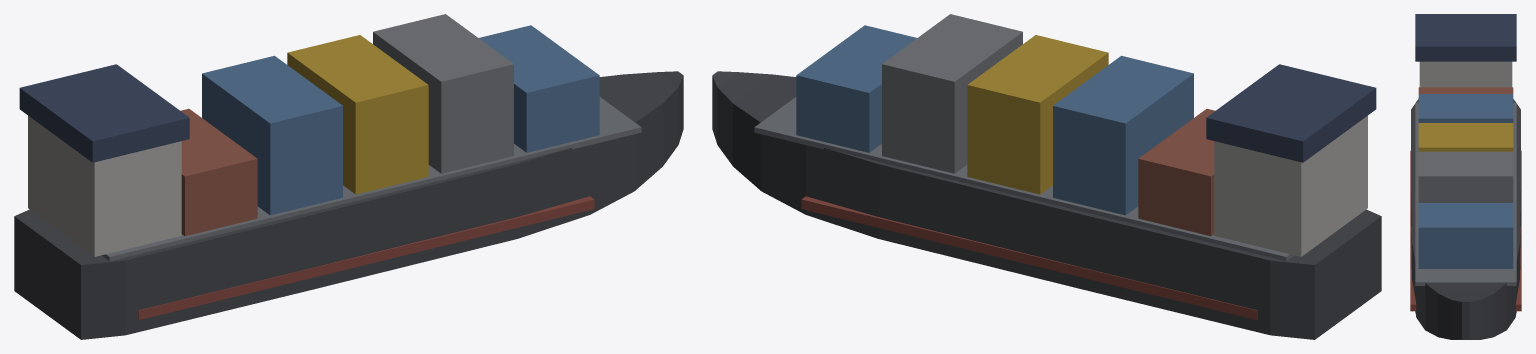
Rendered from port_ship_boxb_medium_lvl1.glb.
3 renders of one model, left to right at view 1: azimuth 30°, elevation 25°; view 2: azimuth 150°, elevation 25°; view 3: azimuth 270°, elevation 25°, orthographic. The views are drawn at different scales.
Parts seen in each view (by area): view 1: port_ship_boxb_medium; view 2: port_ship_boxb_medium; view 3: port_ship_boxb_medium.
Boxes of the visible parts, x1,y1,x2,y2 form: port_ship_boxb_medium: (14, 14, 683, 339); port_ship_boxb_medium: (712, 14, 1381, 339); port_ship_boxb_medium: (1410, 14, 1521, 339).
Size of the model in its own units: 0.3397 by 0.1019 by 0.0748.
